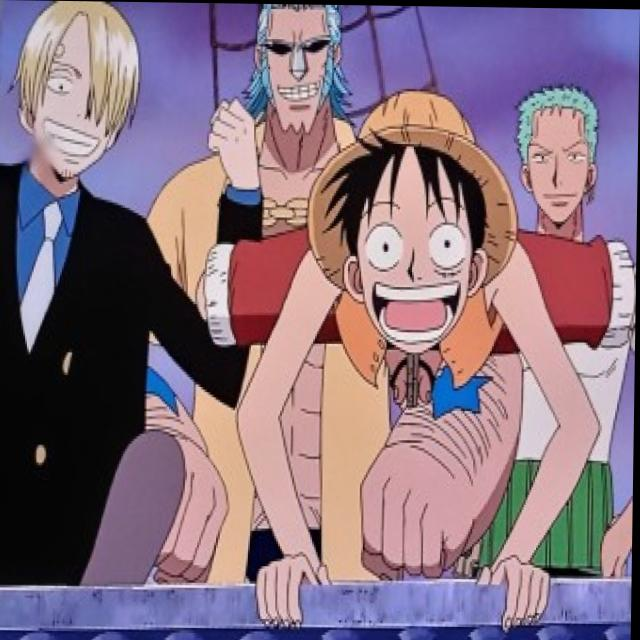Franky: (241, 3, 344, 142)
Luffy: (299, 83, 519, 357)
Sangdi: (0, 0, 145, 192)
Zoro: (510, 80, 611, 226)
